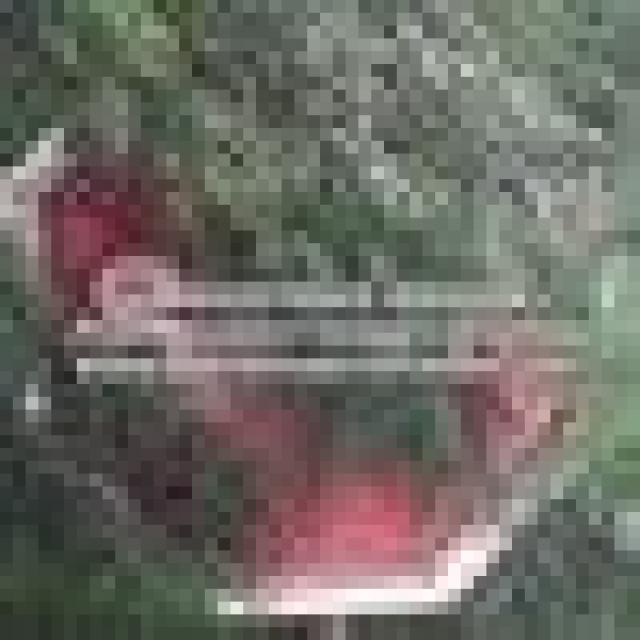STOP: (0, 38, 589, 589)
